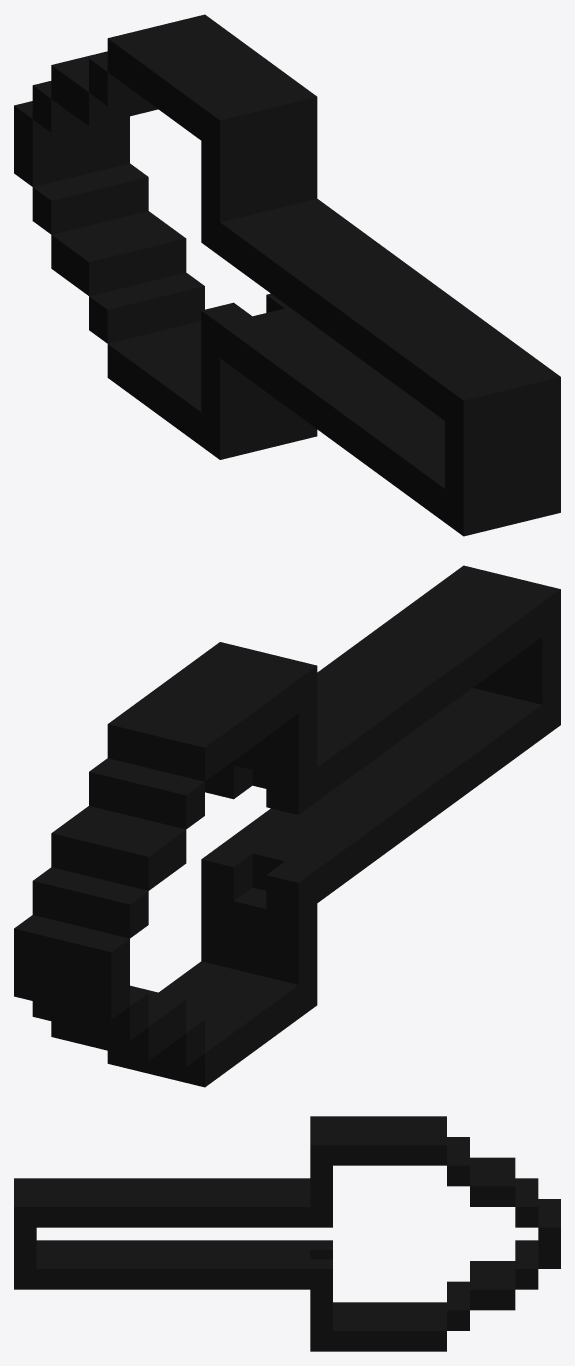
The model's file is Medieval Assets-0-Exit Node - Arrow Outline.obj.
3 views of the same model, one above another, from view 1: azimuth 30°, elevation 25°; view 2: azimuth 150°, elevation 25°; view 3: azimuth 270°, elevation 25° (orthographic). The views are drawn at different scales.
Parts seen in each view (by area): view 1: Exit Node - Arrow Outline; view 2: Exit Node - Arrow Outline; view 3: Exit Node - Arrow Outline.
Part boxes in pixels (<box>): Exit Node - Arrow Outline: <box>14,14,560,536</box>; Exit Node - Arrow Outline: <box>14,565,560,1087</box>; Exit Node - Arrow Outline: <box>14,1116,560,1351</box>.
Bounding box in the file's own units: 0.3 × 1 × 2.4.
Materials: 1 (1 with a texture image).
